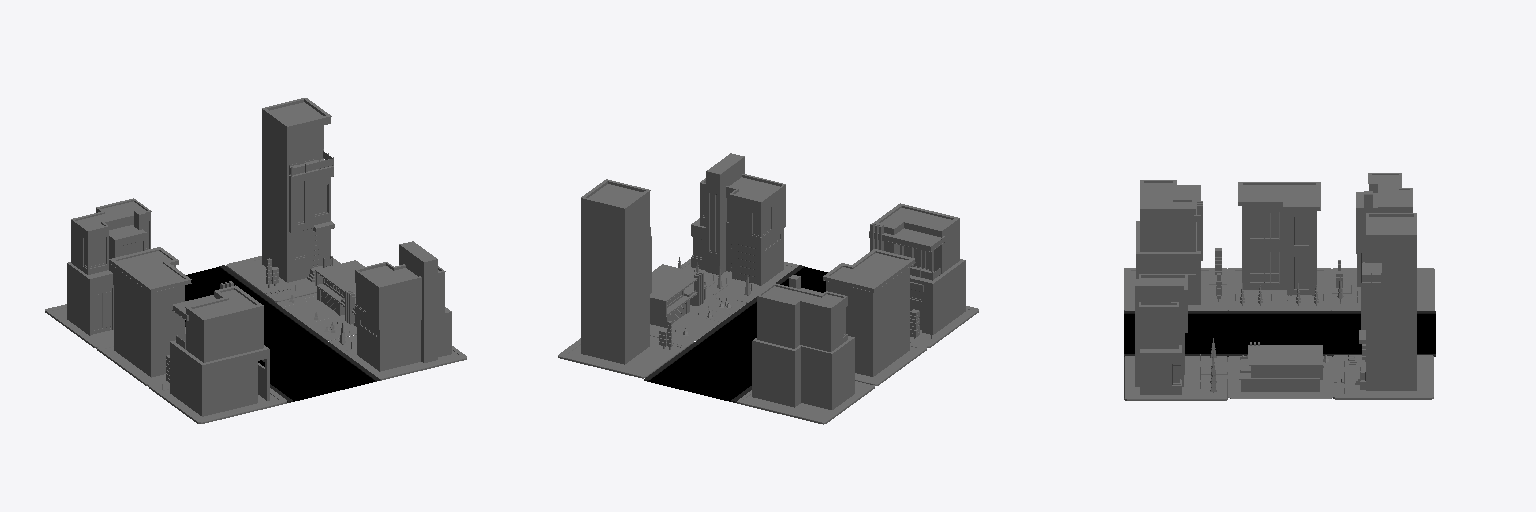
The model's file is road5.obj.
The picture shows the model from 3 angles: view 1: azimuth 30°, elevation 25°; view 2: azimuth 150°, elevation 25°; view 3: azimuth 270°, elevation 25°; orthographic projection.
Visible parts, largest first — view 1: Long_Straight_Road, Box437_Mesh_164, Box644_Mesh_238, Box345_Mesh_313, Box335_Mesh_309, Box524_Mesh_122, Box523_Mesh_121, Box522_Mesh_120, Box658_Mesh_235, Line017_Mesh_194, Object093_Mesh_304, Object141_Mesh_171 (+16 smaller); view 2: Box437_Mesh_164, Long_Straight_Road, Line017_Mesh_194, Box644_Mesh_238, Box422_Mesh_187, Box345_Mesh_313, Box523_Mesh_121, Box658_Mesh_235, Box524_Mesh_122, Box582_Mesh_063, Rectangle007_Mesh_175, Box335_Mesh_309 (+17 smaller); view 3: Long_Straight_Road, Box437_Mesh_164, Box335_Mesh_309, Object215_Mesh_229, Box658_Mesh_235, Box582_Mesh_063, Box644_Mesh_238, Box523_Mesh_121, Box522_Mesh_120, Object276_Mesh_119, Box345_Mesh_313, Rectangle007_Mesh_175 (+18 smaller).
Part boxes in pixels (bbox=[...]): Long_Straight_Road: bbox=[185, 265, 379, 402]; Box437_Mesh_164: bbox=[262, 110, 330, 282]; Box644_Mesh_238: bbox=[114, 267, 184, 377]; Box345_Mesh_313: bbox=[170, 340, 269, 416]; Box335_Mesh_309: bbox=[186, 292, 263, 362]; Box524_Mesh_122: bbox=[355, 271, 444, 329]; Box523_Mesh_121: bbox=[399, 241, 437, 362]; Box522_Mesh_120: bbox=[380, 307, 451, 371]; Box658_Mesh_235: bbox=[109, 247, 191, 293]; Line017_Mesh_194: bbox=[67, 262, 113, 335]; Object093_Mesh_304: bbox=[213, 361, 257, 413]; Object141_Mesh_171: bbox=[290, 127, 332, 266]; Box437_Mesh_164: bbox=[581, 192, 649, 364]; Long_Straight_Road: bbox=[644, 265, 827, 402]; Line017_Mesh_194: bbox=[752, 336, 854, 409]; Box644_Mesh_238: bbox=[829, 267, 909, 376]; Box422_Mesh_187: bbox=[757, 297, 847, 351]; Box345_Mesh_313: bbox=[910, 259, 965, 334]; Box523_Mesh_121: bbox=[706, 153, 744, 274]; Box658_Mesh_235: bbox=[823, 249, 915, 292]; Box524_Mesh_122: bbox=[729, 185, 785, 244]; Box582_Mesh_063: bbox=[650, 264, 707, 316]; Rectangle007_Mesh_175: bbox=[558, 329, 693, 378]; Box335_Mesh_309: bbox=[884, 220, 959, 273]; Long_Straight_Road: bbox=[1124, 311, 1435, 356]; Box437_Mesh_164: bbox=[1366, 235, 1416, 390]; Box335_Mesh_309: bbox=[1140, 210, 1195, 251]; Object215_Mesh_229: bbox=[1250, 213, 1308, 287]; Box658_Mesh_235: bbox=[1238, 182, 1320, 210]; Box582_Mesh_063: bbox=[1239, 345, 1322, 379]; Box644_Mesh_238: bbox=[1242, 206, 1286, 289]; Box523_Mesh_121: bbox=[1135, 279, 1183, 386]; Box522_Mesh_120: bbox=[1140, 345, 1181, 394]; Object276_Mesh_119: bbox=[1139, 307, 1178, 348]; Box345_Mesh_313: bbox=[1136, 221, 1200, 304]; Rectangle007_Mesh_175: bbox=[1333, 355, 1433, 399].
Bounding box in the file's own units: 19.94 × 11.22 × 20.